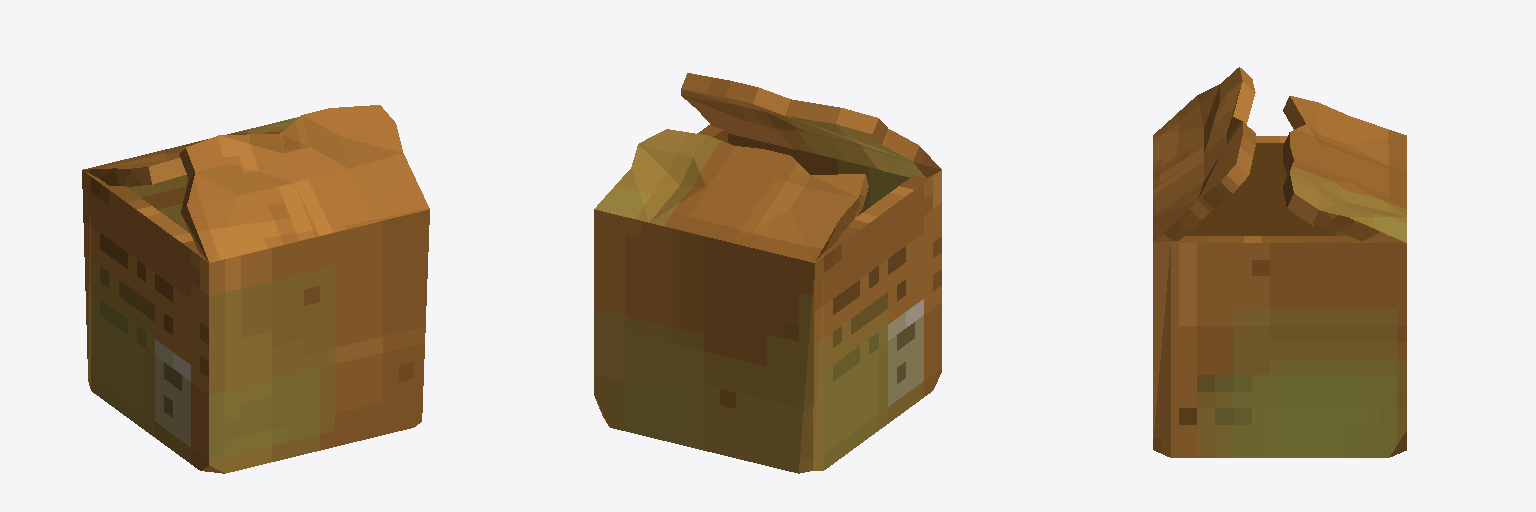
The picture shows the model from 3 angles: view 1: azimuth 30°, elevation 25°; view 2: azimuth 150°, elevation 25°; view 3: azimuth 270°, elevation 25°; orthographic projection.
Parts seen in each view (by area): view 1: cuboid; view 2: cuboid; view 3: cuboid.
Boxes of the visible parts, <box> form: cuboid: <box>82,105,429,473</box>; cuboid: <box>594,73,941,473</box>; cuboid: <box>1153,67,1406,457</box>.
Bounding box in the file's own units: 0.875 × 1.12 × 0.875.
Materials: 1 (1 with a texture image).